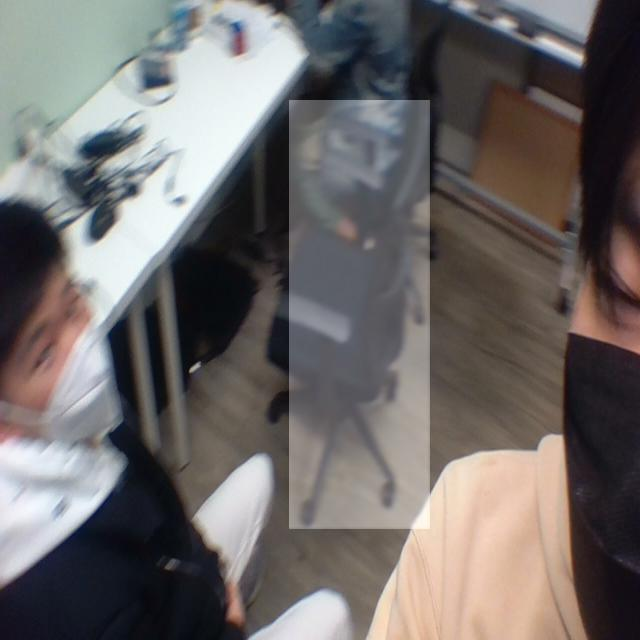black-chair: (289, 100, 431, 530)
